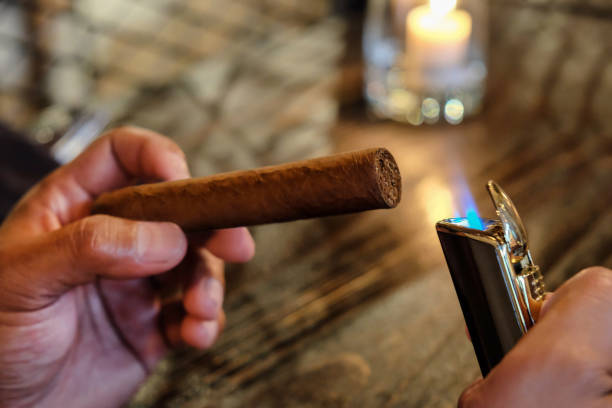cigarette: (92, 146, 400, 232)
